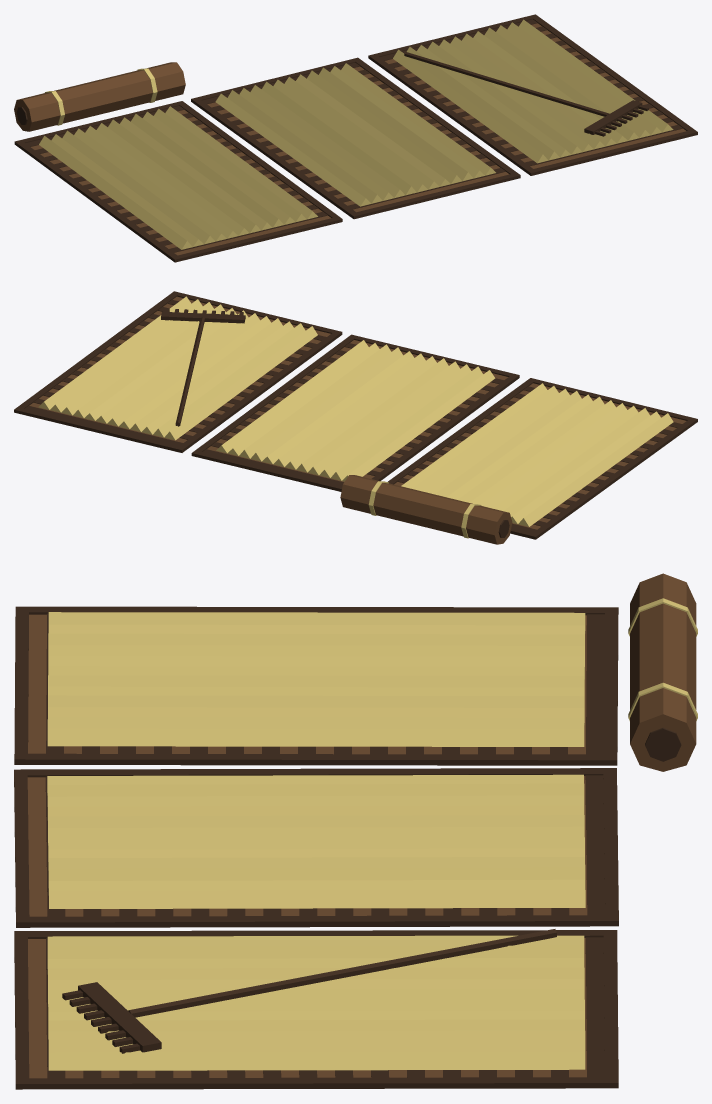
3 views of the same model, one above another, from view 1: azimuth 30°, elevation 25°; view 2: azimuth 150°, elevation 25°; view 3: azimuth 270°, elevation 25° (orthographic). The views are drawn at different scales.
Parts seen in each view (by area): view 1: grain-straw, binding-dark-wood, mats-dark-wood, mats-earth-brown, rolled_mat-earth-brown, rake-dark-wood, rolled_mat-straw; view 2: grain-straw, binding-dark-wood, mats-dark-wood, rolled_mat-earth-brown, mats-earth-brown, rake-dark-wood, rolled_mat-straw; view 3: grain-straw, binding-dark-wood, mats-dark-wood, mats-earth-brown, rolled_mat-earth-brown, rake-dark-wood, rolled_mat-straw, rolled_mat-dark-wood.
Boxes of the visible parts, box(x1,y1,x2,y2) form: grain-straw: box(39, 19, 673, 249); binding-dark-wood: box(14, 14, 697, 262); mats-dark-wood: box(25, 19, 683, 252); mats-earth-brown: box(31, 23, 686, 255); rolled_mat-earth-brown: box(14, 62, 185, 131); rake-dark-wood: box(404, 52, 648, 136); rolled_mat-straw: box(45, 68, 157, 125); grain-straw: box(38, 296, 673, 526); binding-dark-wood: box(14, 291, 697, 539); mats-dark-wood: box(25, 299, 681, 532); rolled_mat-earth-brown: box(340, 475, 512, 544); mats-earth-brown: box(29, 296, 686, 529); rake-dark-wood: box(161, 308, 245, 426); rolled_mat-straw: box(368, 481, 481, 538); grain-straw: box(47, 612, 585, 1070); binding-dark-wood: box(14, 606, 618, 1089); mats-dark-wood: box(45, 613, 605, 1078); mats-earth-brown: box(27, 614, 587, 1078); rolled_mat-earth-brown: box(630, 573, 696, 771); rake-dark-wood: box(62, 929, 556, 1053); rolled_mat-straw: box(628, 598, 697, 720); rolled_mat-dark-wood: box(645, 727, 681, 761).
Size of the model in its own units: 3.75 by 0.2171 by 2.27.
